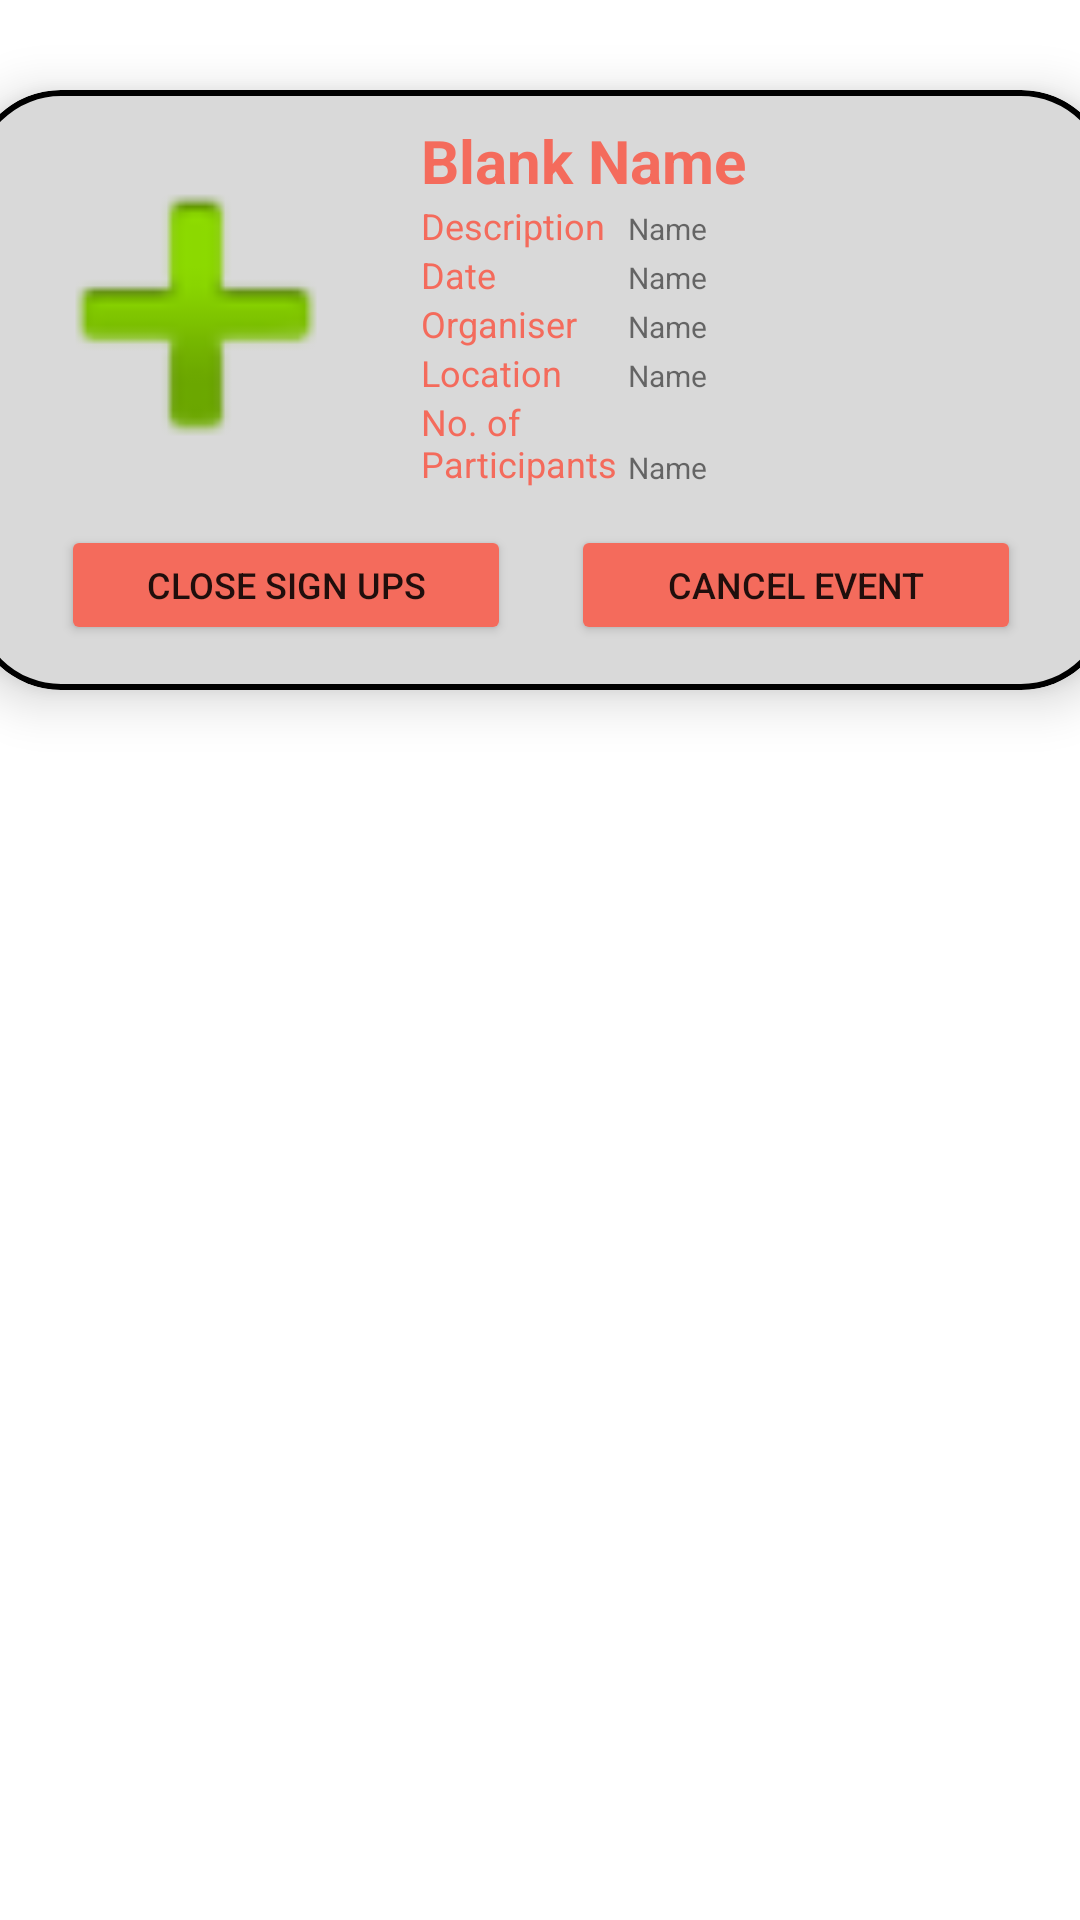

Icon bounding boxes for this 1080*1920 phone screenshot, format (x1, y1, x2, y2):
add: (76, 196, 316, 434)
